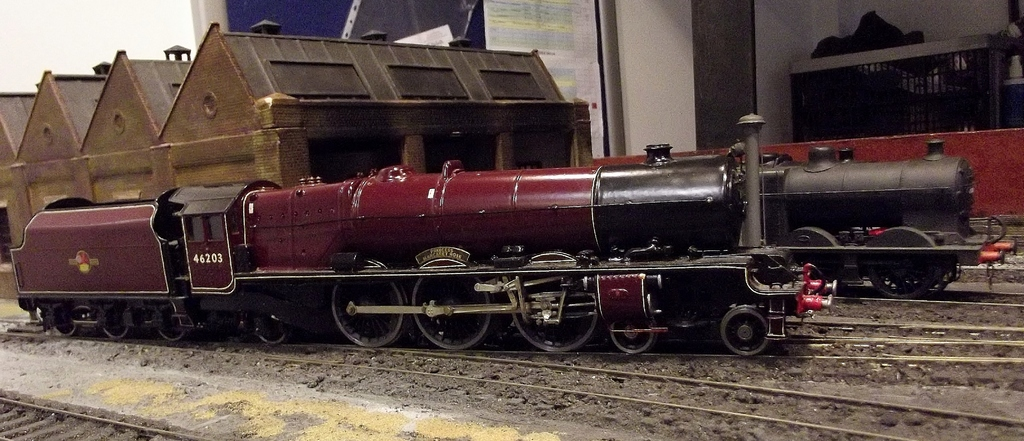train: (8, 112, 1016, 361)
